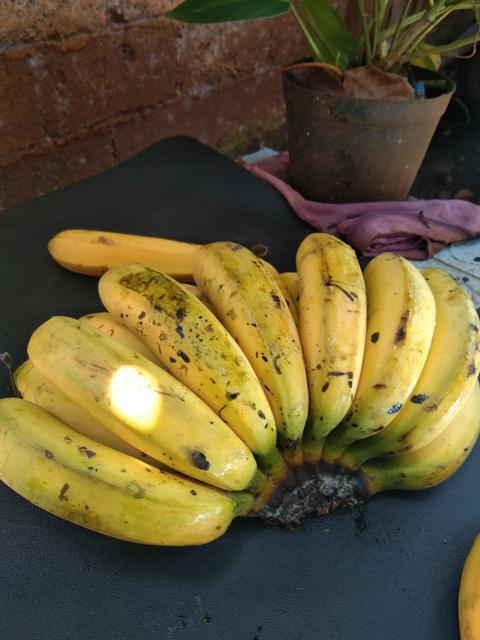freshripe: (44, 211, 195, 277)
ripe: (0, 388, 242, 560), (22, 317, 238, 477), (101, 265, 272, 453), (197, 218, 312, 448), (347, 243, 451, 446), (288, 216, 376, 445)
